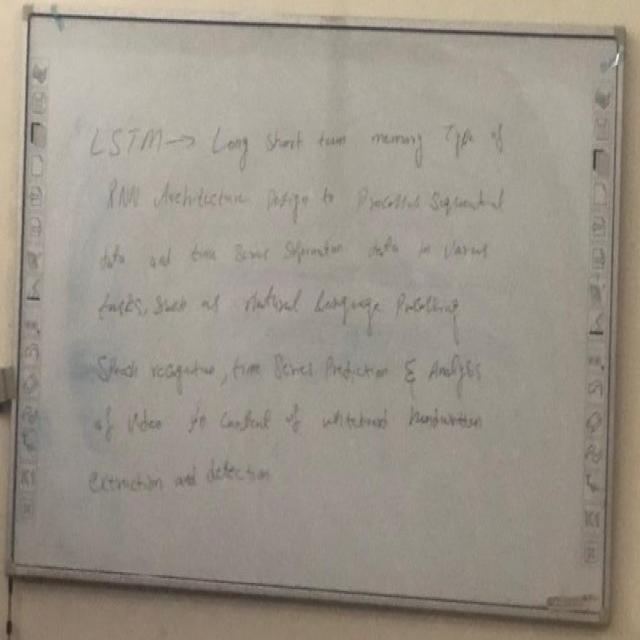White-board: (16, 8, 626, 622)
